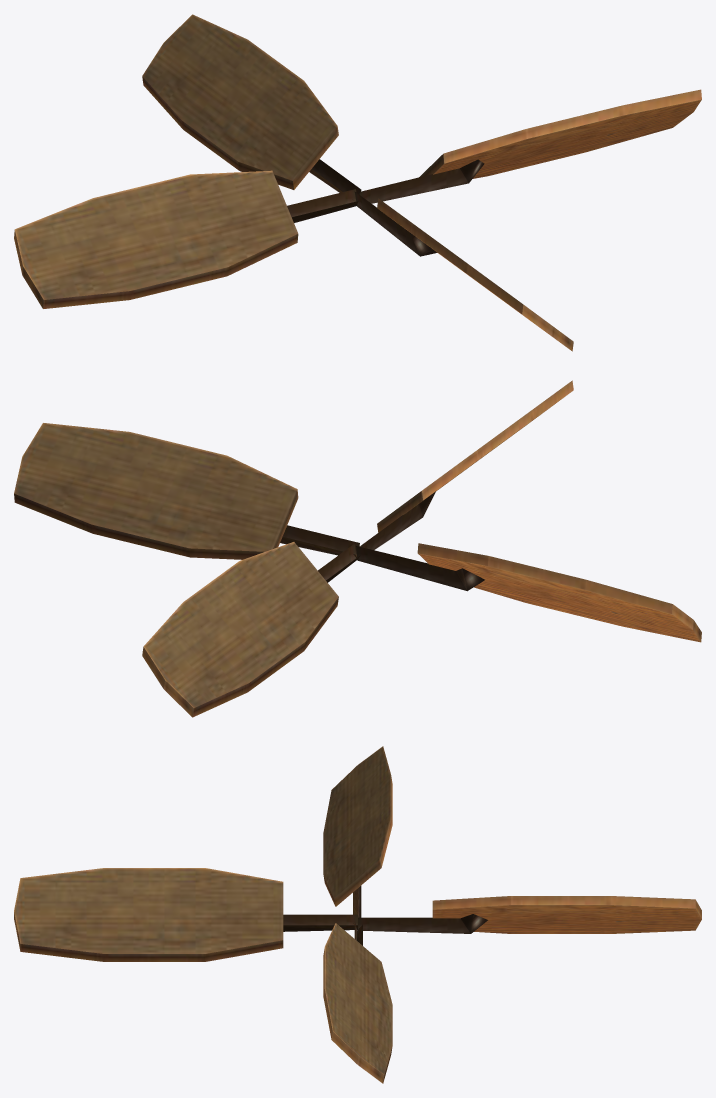
The model's file is Ceiling_Fan_001.fbx.
3 renders of one model, top to bottom at view 1: azimuth 30°, elevation 25°; view 2: azimuth 150°, elevation 25°; view 3: azimuth 270°, elevation 25°, orthographic. The views are drawn at different scales.
Visible parts, largest first — view 1: Ceiling_Fan_Blades_Ceiling_Fan_0; view 2: Ceiling_Fan_Blades_Ceiling_Fan_0; view 3: Ceiling_Fan_Blades_Ceiling_Fan_0.
Boxes of the visible parts, left/top/right/bottom form: Ceiling_Fan_Blades_Ceiling_Fan_0: left=14, top=14, right=701, bottom=351; Ceiling_Fan_Blades_Ceiling_Fan_0: left=14, top=380, right=701, bottom=717; Ceiling_Fan_Blades_Ceiling_Fan_0: left=14, top=746, right=701, bottom=1083.
Bounding box in the file's own units: 1.37 × 0.1453 × 1.37.
